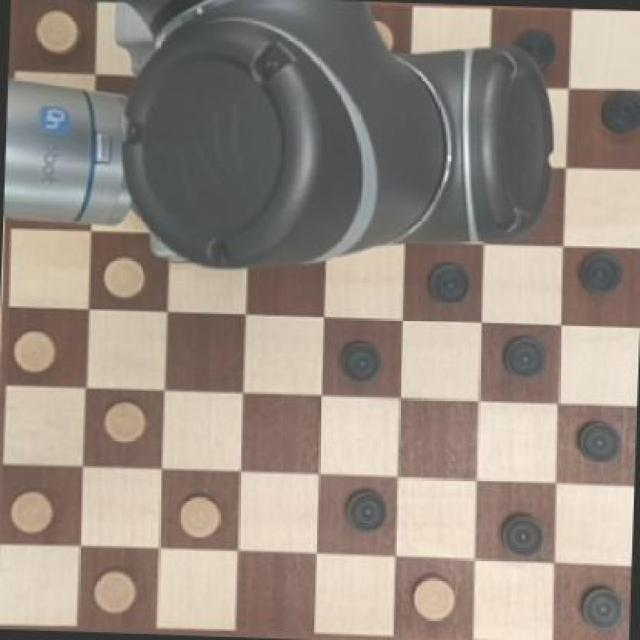black: (561, 414, 627, 468), (496, 326, 546, 385), (580, 578, 629, 634), (574, 247, 626, 298), (497, 507, 548, 559), (338, 332, 386, 387), (426, 255, 474, 310), (591, 85, 640, 137), (340, 487, 388, 535), (514, 20, 559, 65)
white: (406, 571, 466, 627), (86, 561, 141, 619), (174, 487, 226, 544), (28, 4, 82, 56), (6, 487, 60, 539), (98, 248, 146, 303), (99, 393, 148, 444), (14, 330, 58, 378)
